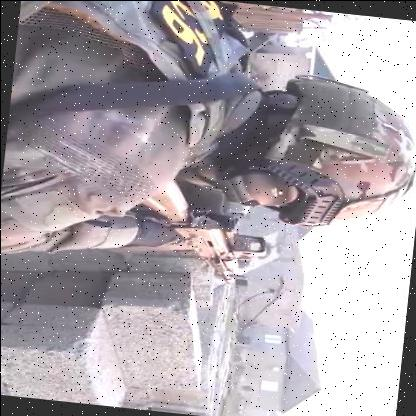rifle: (107, 164, 281, 290)
